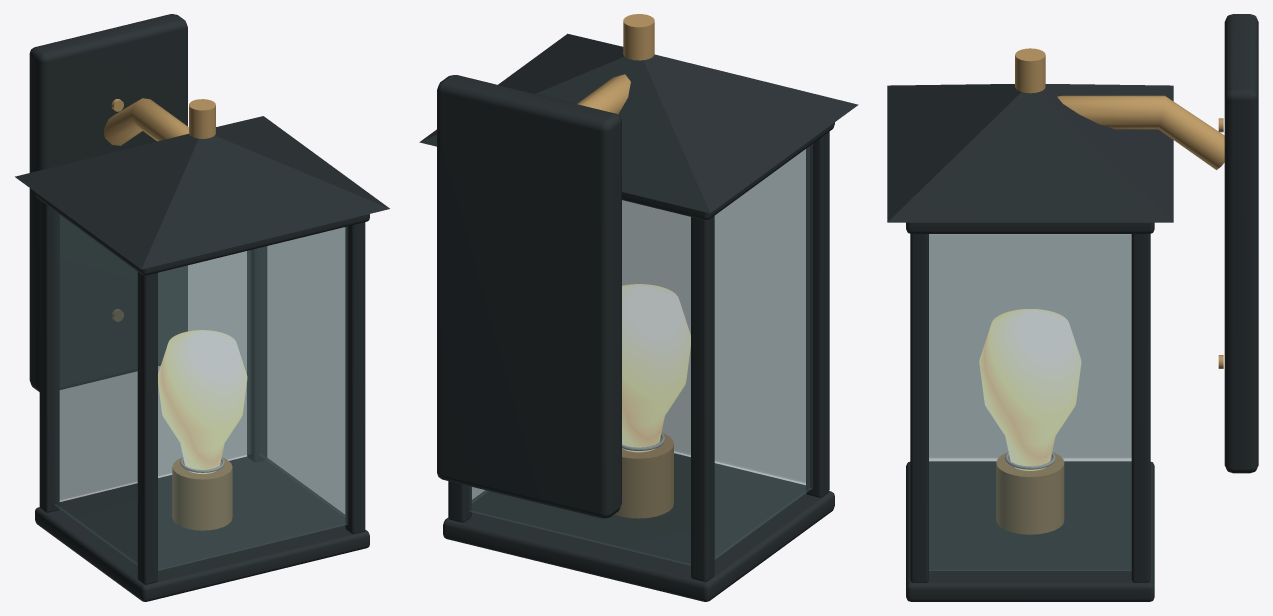
File: porch-wall-lantern.glb
3 views of the same model, side by side, from view 1: azimuth 30°, elevation 25°; view 2: azimuth 150°, elevation 25°; view 3: azimuth 270°, elevation 25° (orthographic). The views are drawn at different scales.
Parts seen in each view (by area): view 1: porch-wall-lantern authored assembly; view 2: porch-wall-lantern authored assembly; view 3: porch-wall-lantern authored assembly.
Boxes of the visible parts, box(x1,y1,x2,y2) form: porch-wall-lantern authored assembly: box(15, 14, 389, 601); porch-wall-lantern authored assembly: box(419, 14, 858, 601); porch-wall-lantern authored assembly: box(887, 14, 1258, 601).
Size of the model in its own units: 0.192 by 0.32 by 0.22.
